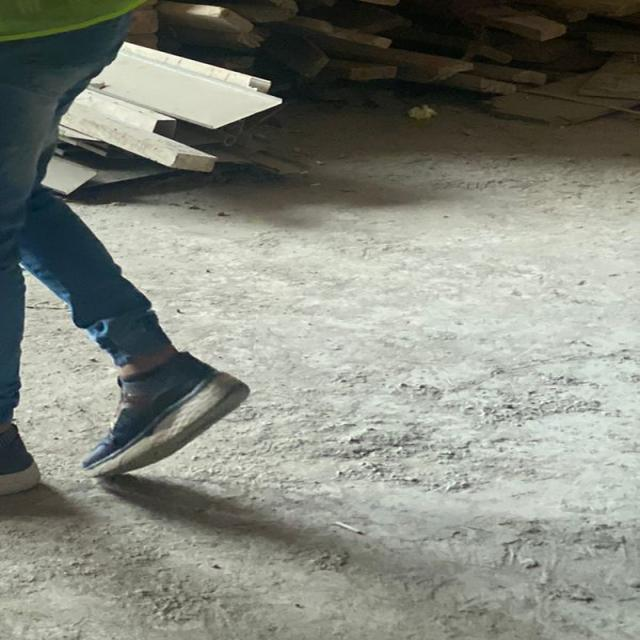Boot: (73, 344, 260, 484), (0, 418, 48, 514)
Vest: (0, 0, 160, 49)
